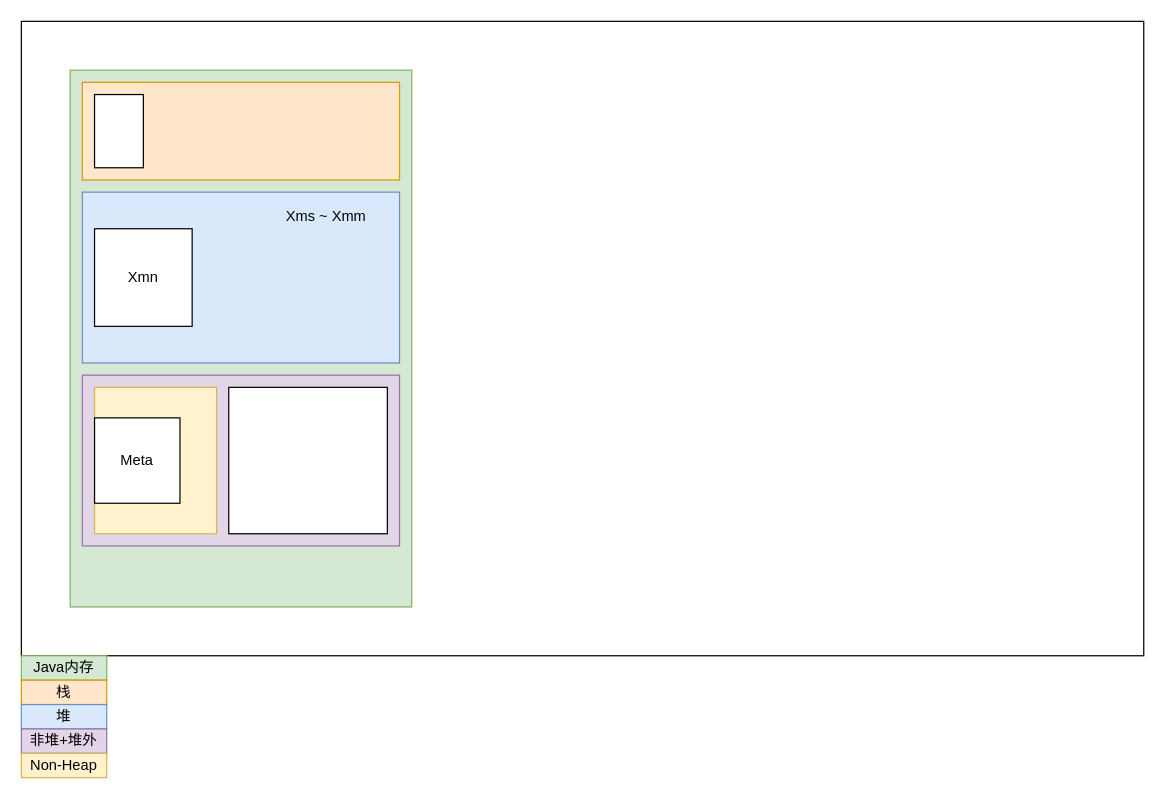
Image size: 1165x799. Some labels were removed from this diagram. Here are the shapes that lost their labels. From the top down, the centre of each, then its label:
(118,130): Xss
(307,460): Direct Memory
